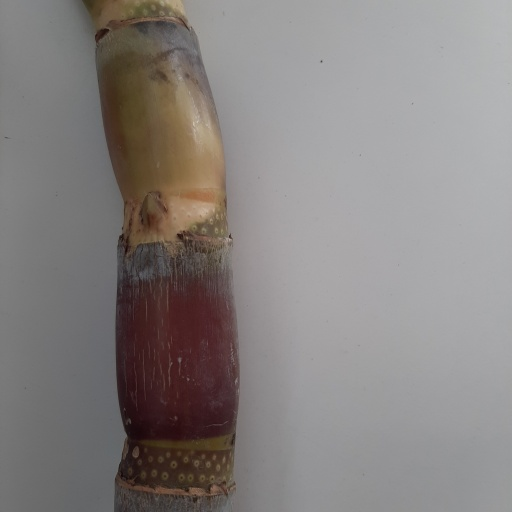Bud: (139, 192, 169, 226)
